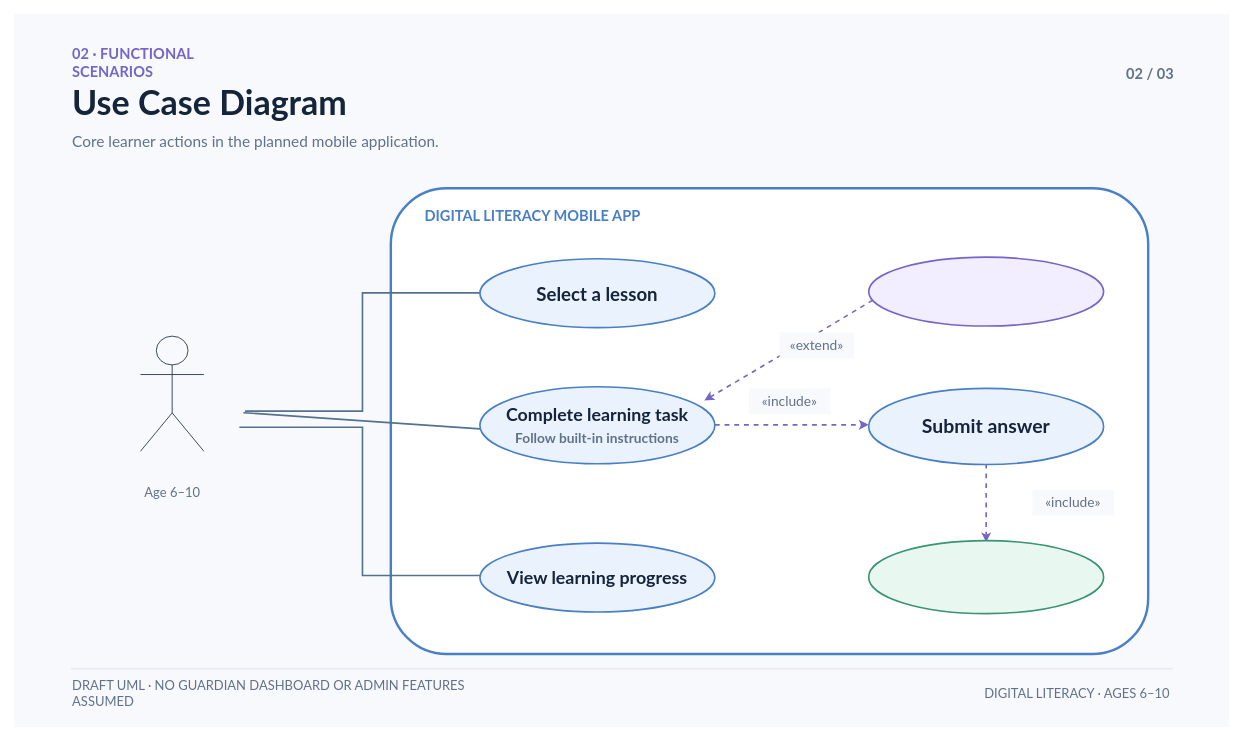
This 1243x740 diagram has some shape labels left out. Here are the shapes that lost their labels. From the top down, the centre of each, then its label:
At pixel 986 291: "Request optional hint".
At pixel 172 393: "Child".
At pixel 986 576: "Receive answer feedback".
